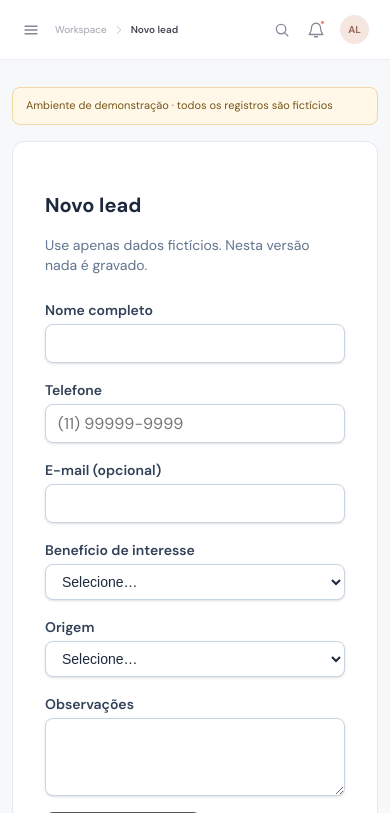
Scenario: Formulário de novo lead › aceita dados válidos e deixa claro que nada foi salvo
Type "Maria Fictícia" into the field labelled "Nome completo" at (195, 344), box x1=45 y1=324 x2=345 y2=363
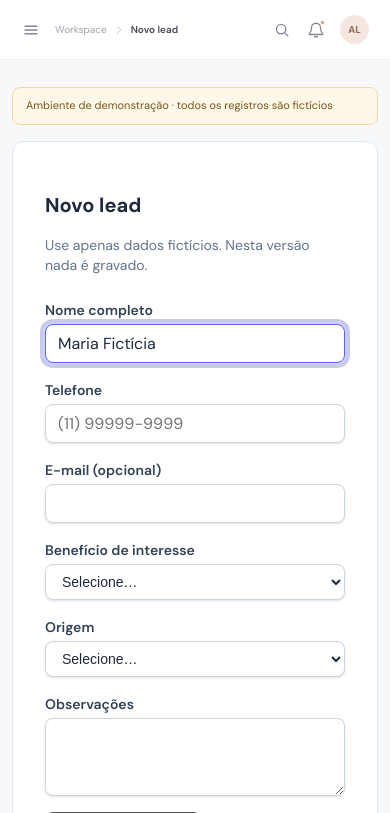
Type "(11) 99999-0000" into the field labelled "Telefone" at (195, 424), box x1=45 y1=404 x2=345 y2=443
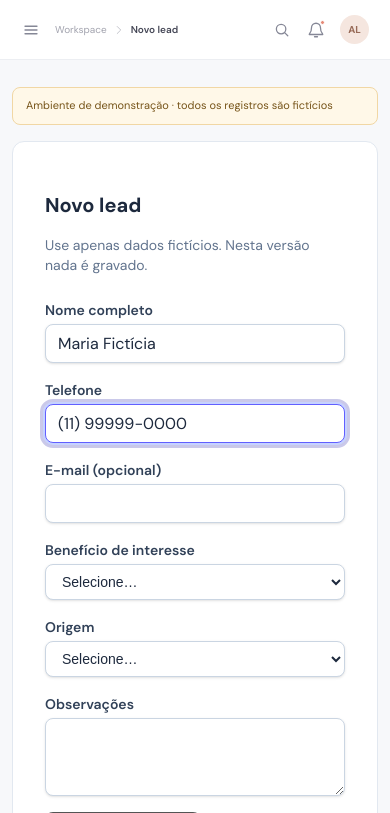
Select "BPC/LOAS" in the dropdown labelled "Benefício de interesse" at (195, 582), box x1=45 y1=564 x2=345 y2=600
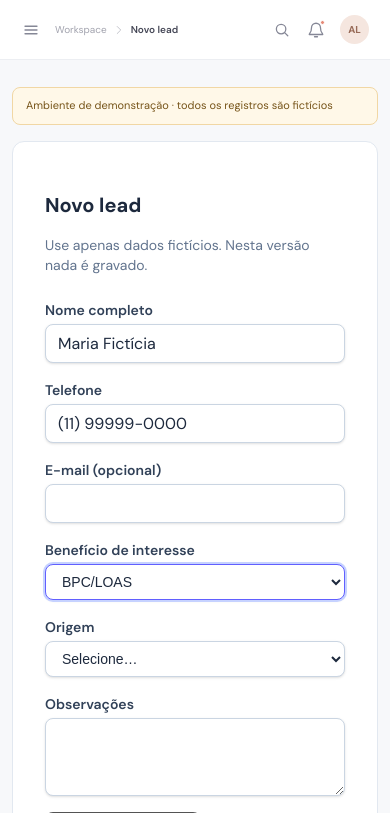
Select "Site" in the dropdown labelled "Origem" at (195, 659), box x1=45 y1=641 x2=345 y2=677
(page scrolled)
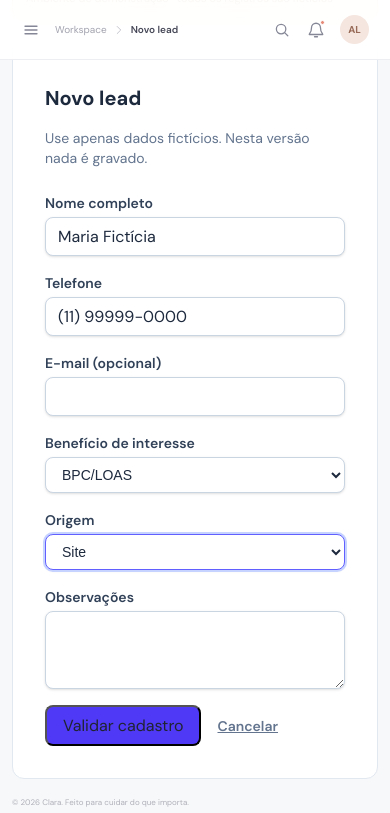
Click the button "Validar cadastro" at (123, 726), box x1=45 y1=705 x2=202 y2=746
(page scrolled)
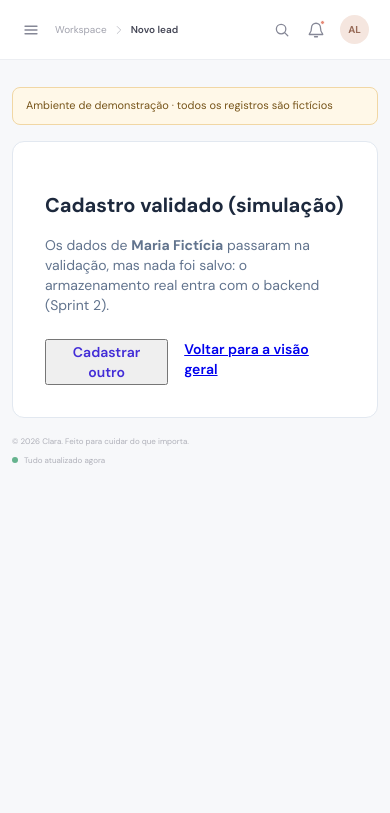
Result: the heading "Cadastro validado (simulação)" is shown at x1=45 y1=190 x2=345 y2=218
Result: the text "nada foi salvo" shows "Maria Fictícia" at x1=131 y1=236 x2=223 y2=254
